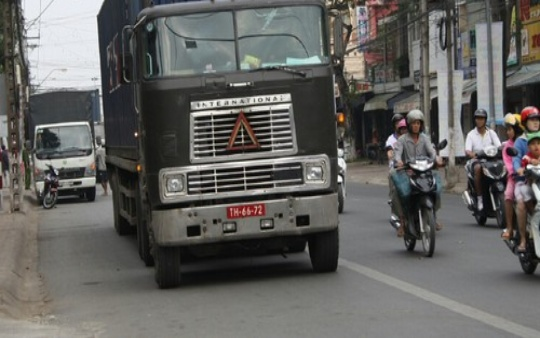plate: (226, 201, 267, 222)
